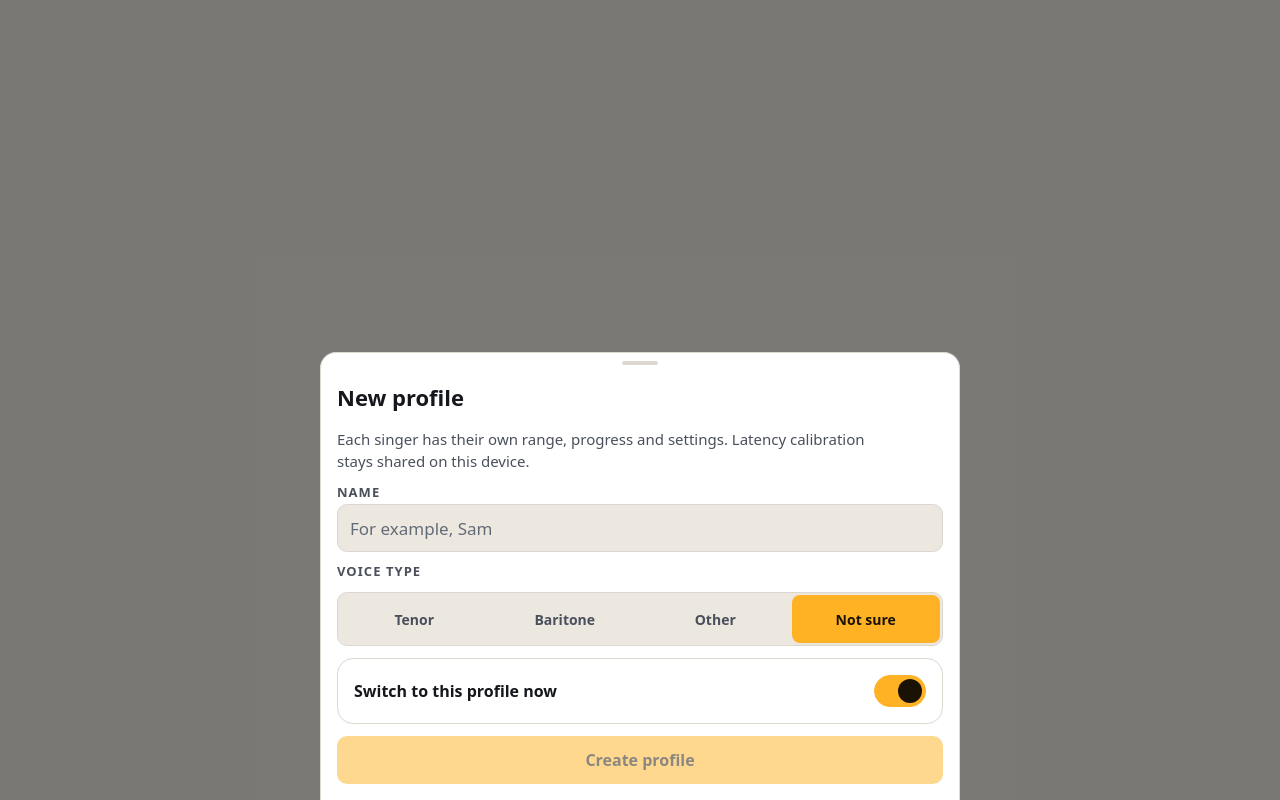
it: profile sheets keep the first keystrokes › New profile: a name typed as the sheet opens stays
Type "Ana" into the field with id "new-profile-name" at {"x": 640, "y": 528}, box x1=337 y1=504 x2=943 y2=552
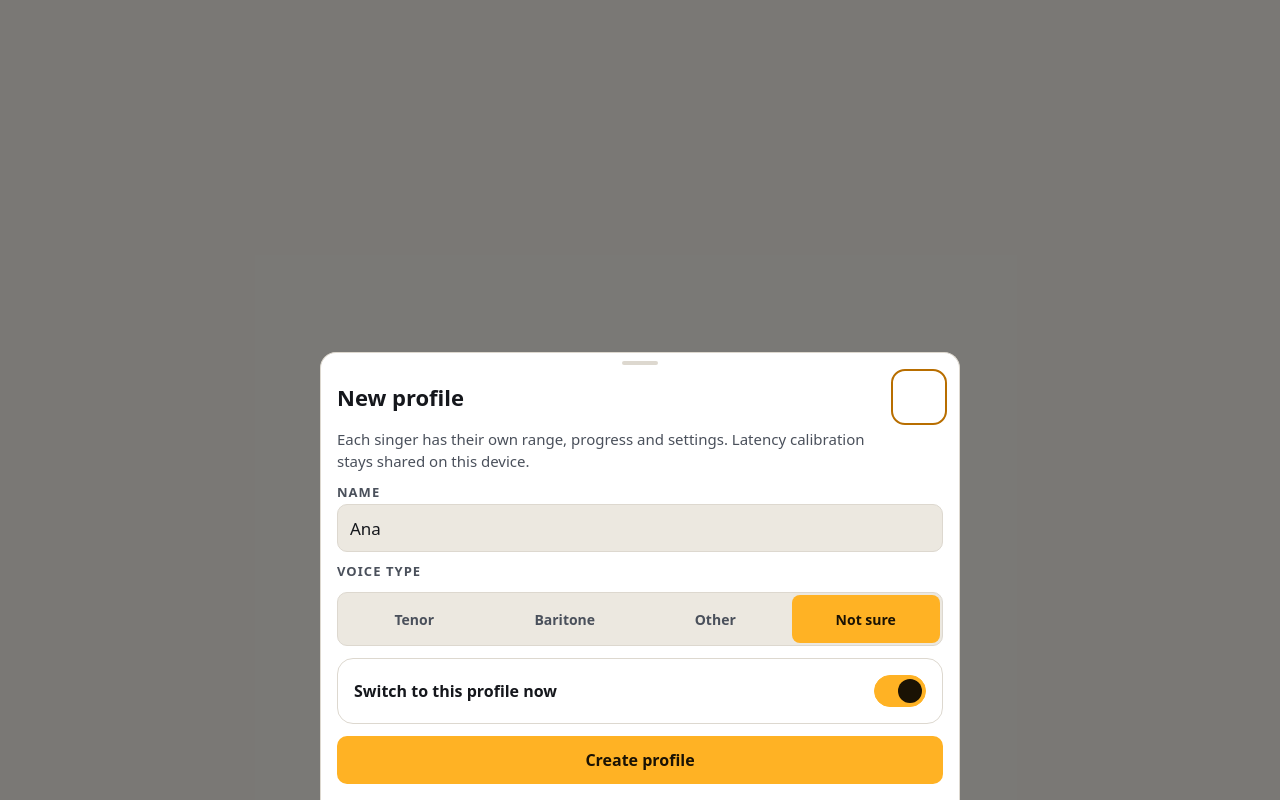
Expected: the button "Create profile" is enabled, x1=337 y1=736 x2=943 y2=784
